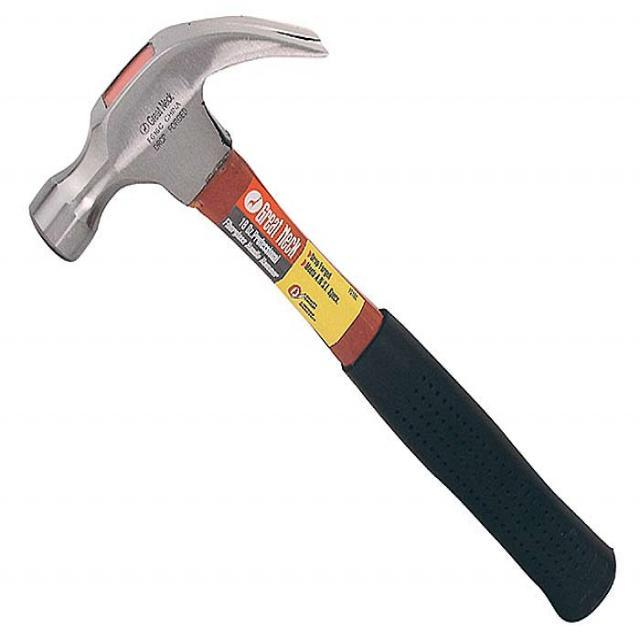hammer: (22, 8, 619, 628)
